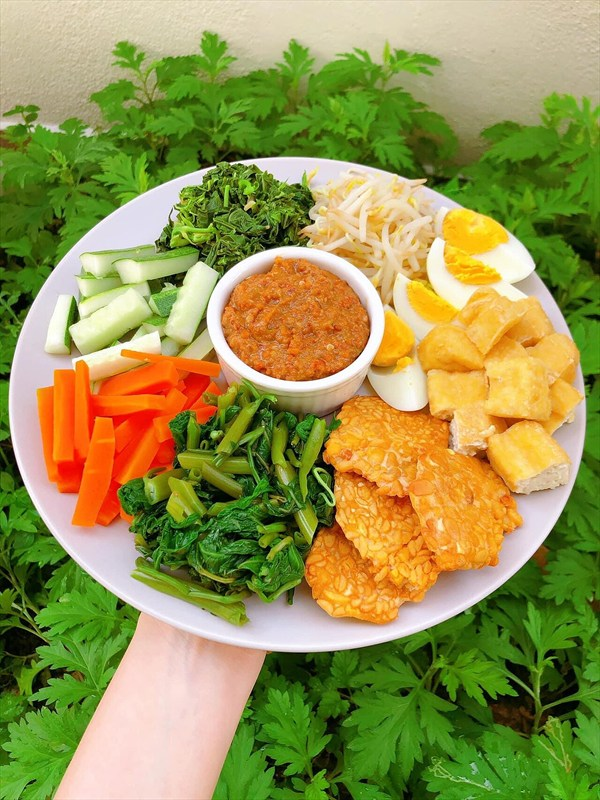Gado-Gado: (50, 165, 524, 648)
